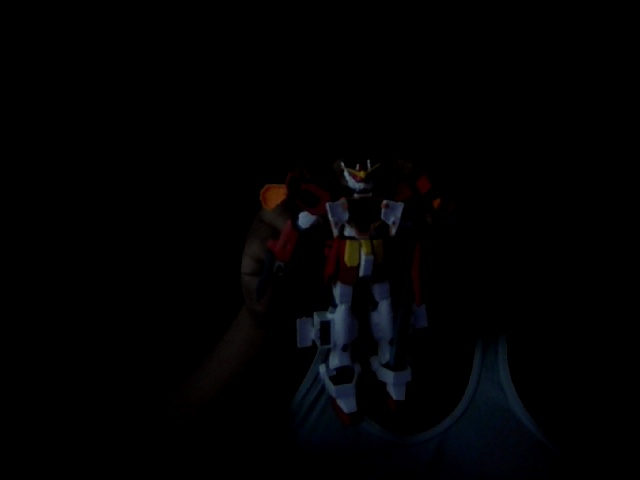Deatharms: (259, 161, 449, 424)
